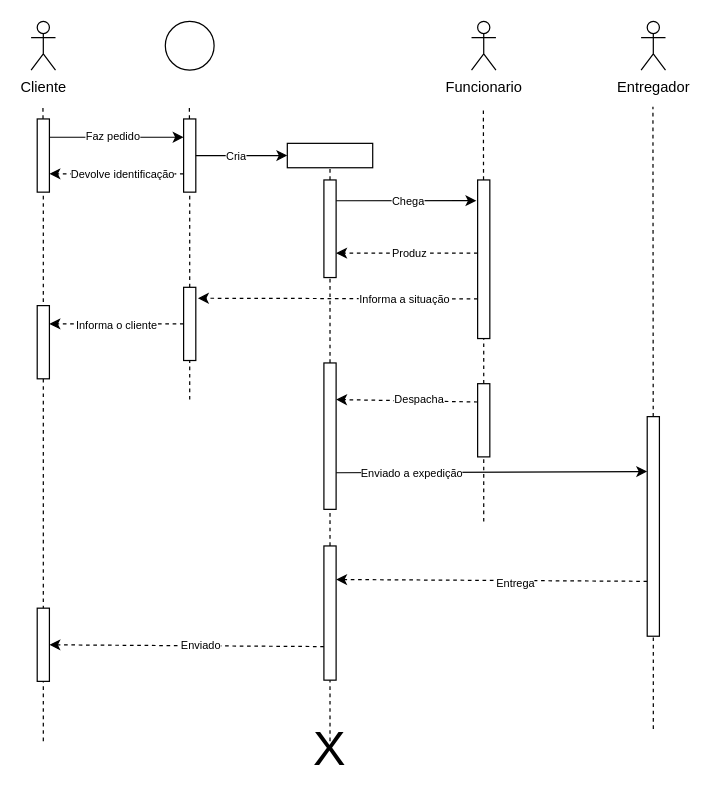
Some shapes in this 710 by 798 pixel diagram are drawn without their labels. Each missing label, with the centre of its shape:
"Pedido" belongs at (x=329, y=155).
"Plataforma" belongs at (x=189, y=45).
